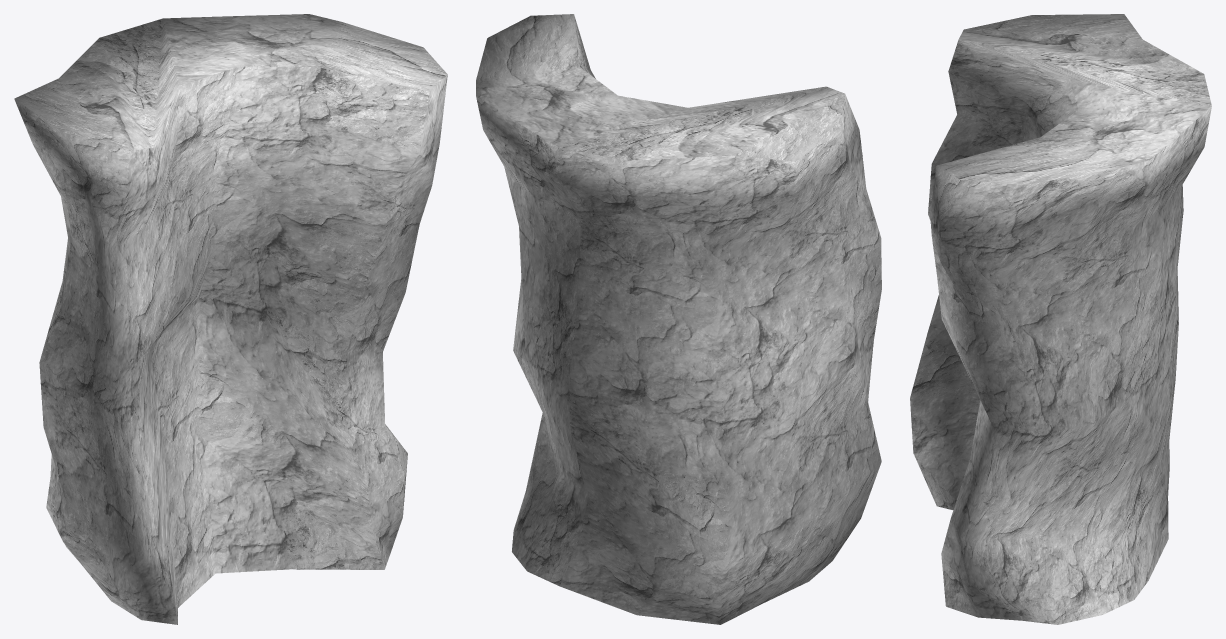
Rendered from Clif_New_04.fbx.
The picture shows the model from 3 angles, left to right: view 1: azimuth 30°, elevation 25°; view 2: azimuth 150°, elevation 25°; view 3: azimuth 270°, elevation 25°; orthographic projection. The views are drawn at different scales.
Visible parts, largest first — view 1: Clif_New_04; view 2: Clif_New_04; view 3: Clif_New_04.
Part boxes in pixels (left/top/right/bottom): Clif_New_04: left=14, top=14, right=447, bottom=624; Clif_New_04: left=476, top=14, right=881, bottom=624; Clif_New_04: left=910, top=14, right=1211, bottom=624.
Size of the model in its own units: 18552 by 23284 by 13849.
